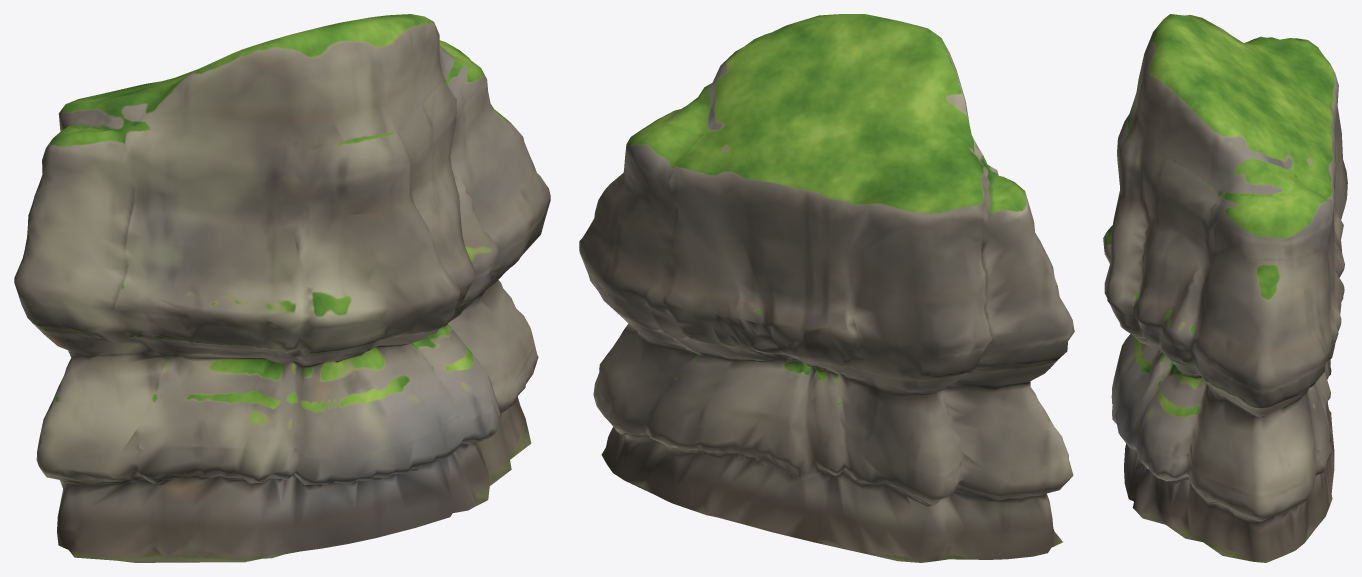
Rendered from Cliff_A.fbx.
3 renders of one model, left to right at view 1: azimuth 30°, elevation 25°; view 2: azimuth 150°, elevation 25°; view 3: azimuth 270°, elevation 25°, orthographic. The views are drawn at different scales.
Parts seen in each view (by area): view 1: Cliff_A; view 2: Cliff_A; view 3: Cliff_A.
Part boxes in pixels (x1,y1,x2,y2): Cliff_A: (14, 14, 550, 562); Cliff_A: (579, 14, 1074, 562); Cliff_A: (1103, 14, 1347, 562).
Bounding box in the file's own units: 10.19 × 8.99 × 4.73.
1 material, 1 textured.
